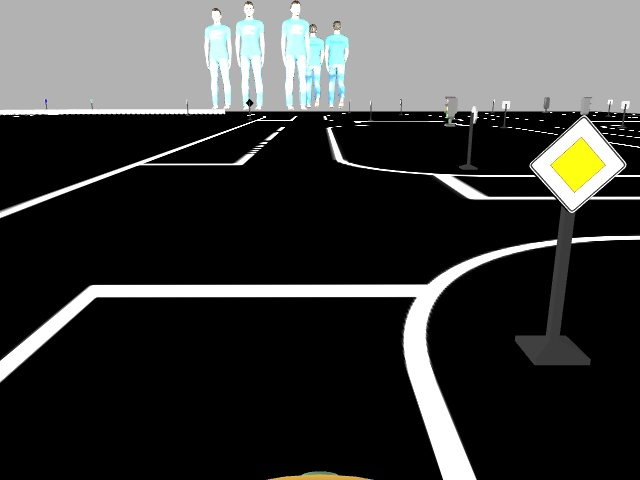Priority: (528, 113, 628, 213)
